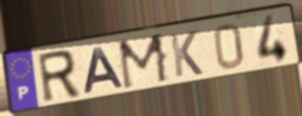0: (211, 22, 247, 73)
4: (255, 12, 290, 66)
A: (82, 45, 127, 95)
K: (167, 28, 205, 79)
M: (116, 30, 172, 92)
R: (35, 48, 83, 107)
